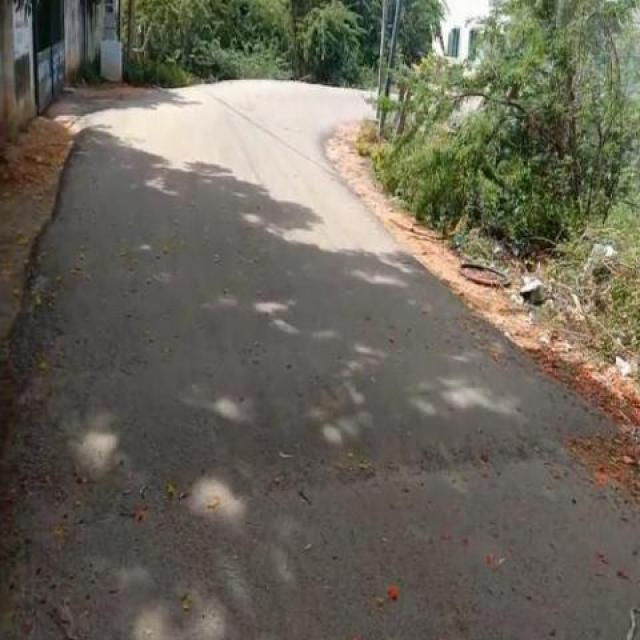Manhole: (458, 263, 514, 285)
Unmarked Bump: (0, 342, 628, 500)
